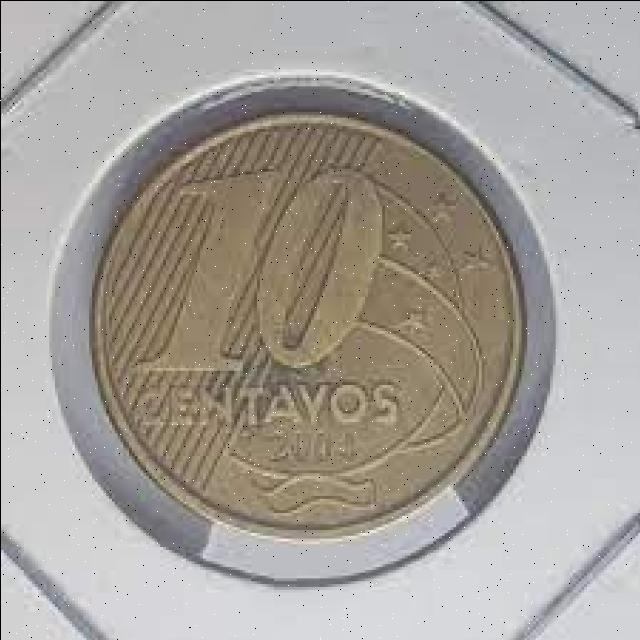10 cent: (96, 112, 530, 558)
